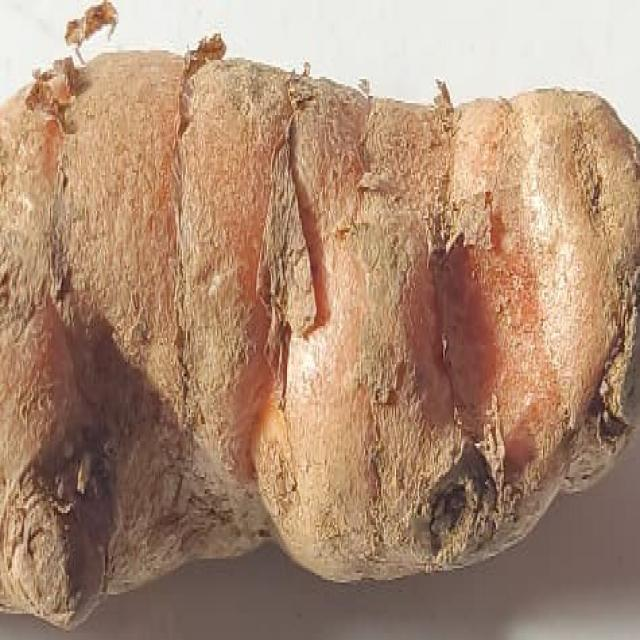ginger: (4, 29, 640, 602)
